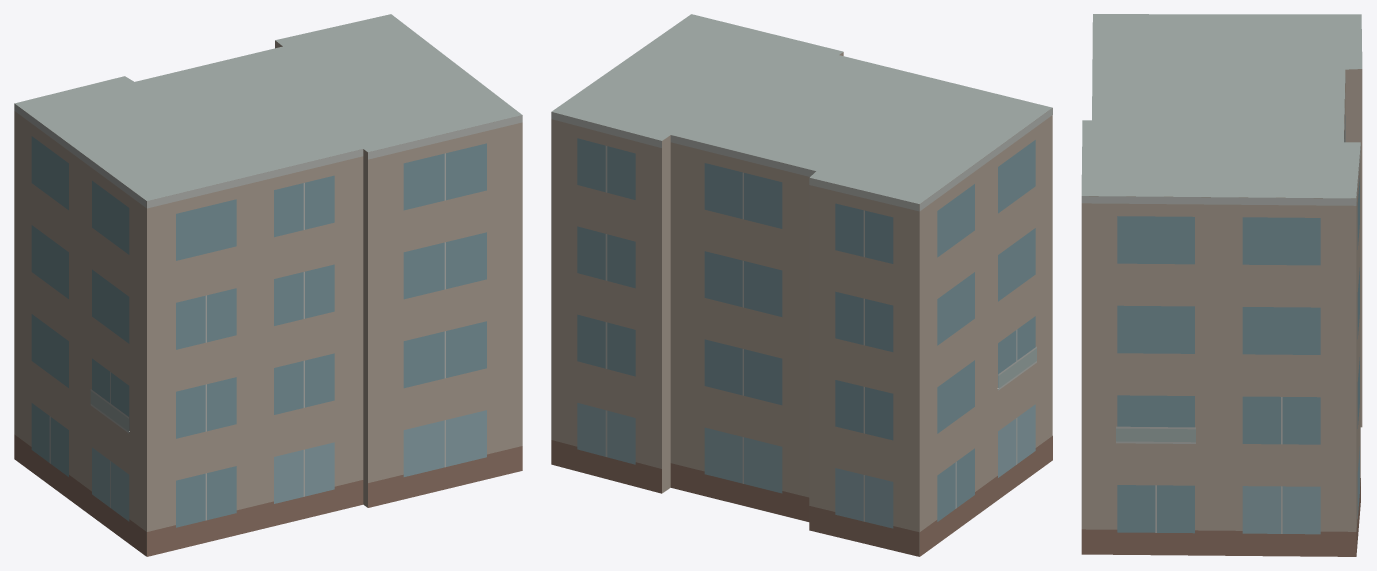
The model's file is survey-upis-32986438.glb.
3 renders of one model, left to right at view 1: azimuth 30°, elevation 25°; view 2: azimuth 150°, elevation 25°; view 3: azimuth 270°, elevation 25°, orthographic.
Parts seen in each view (by area): view 1: survey-upis-32986438.tmp; view 2: survey-upis-32986438.tmp; view 3: survey-upis-32986438.tmp.
Part boxes in pixels (<box>): survey-upis-32986438.tmp: <box>14,14,522,556</box>; survey-upis-32986438.tmp: <box>551,14,1052,556</box>; survey-upis-32986438.tmp: <box>1081,14,1362,556</box>.
Size of the model in its own units: 13.03 by 11.77 by 8.37.
